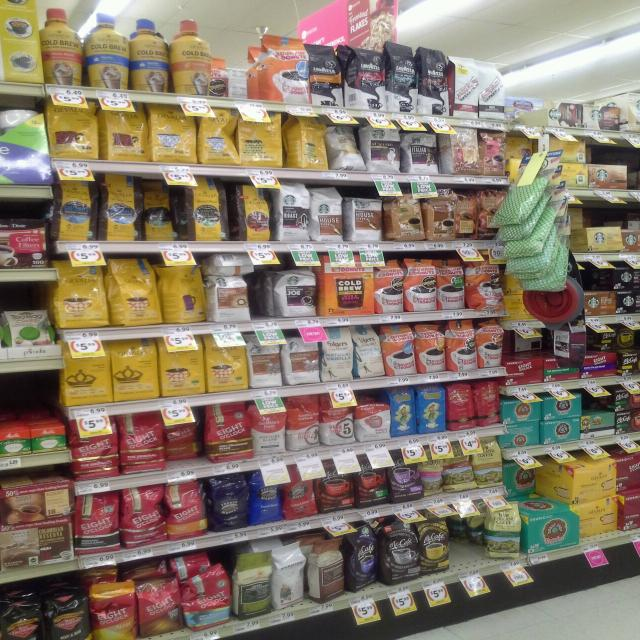empty: (444, 495, 488, 588)
